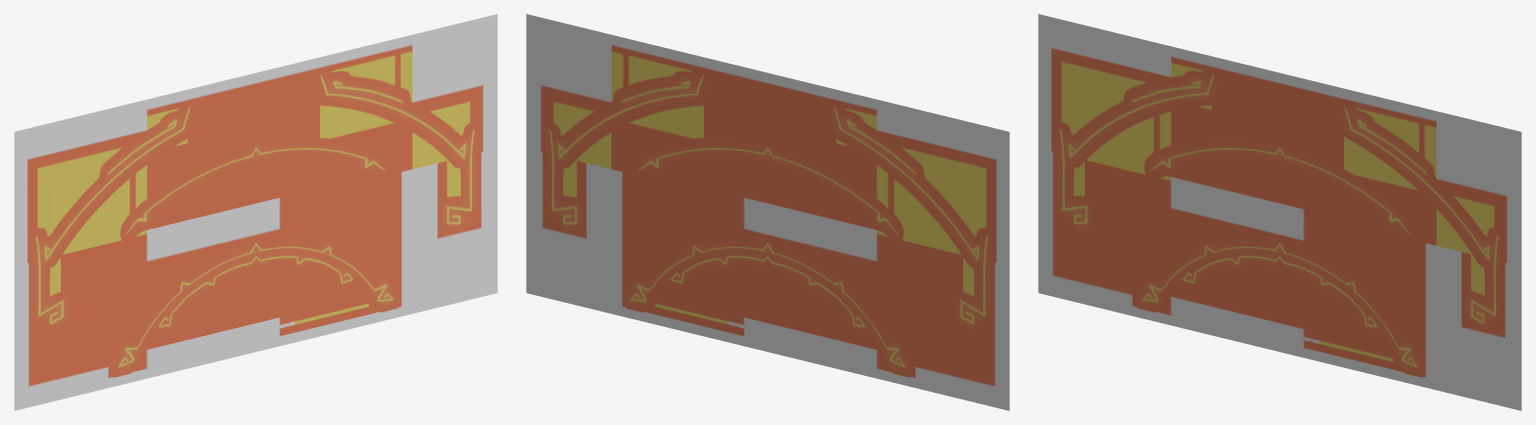
File: Work_UIbiankuang.FBX
The picture shows the model from 3 angles, left to right: view 1: azimuth 30°, elevation 25°; view 2: azimuth 150°, elevation 25°; view 3: azimuth 330°, elevation 25°; orthographic projection.
Visible parts, largest first — view 1: UIbiankuang; view 2: UIbiankuang; view 3: UIbiankuang.
Part boxes in pixels (left/top/right/bottom): UIbiankuang: left=14, top=14, right=497, bottom=410; UIbiankuang: left=526, top=14, right=1009, bottom=410; UIbiankuang: left=1038, top=14, right=1521, bottom=410.
Bounding box in the file's own units: 528 × 291 × 1.27e-05.
